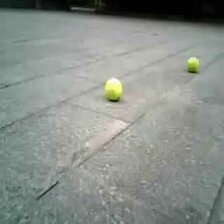tennis: (105, 78, 122, 99), (186, 56, 199, 70)
